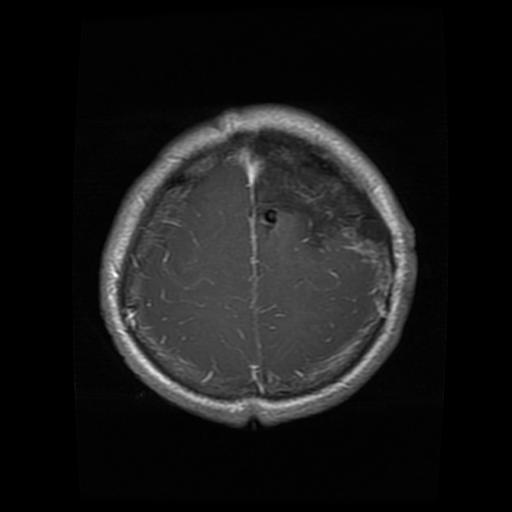Gliomia_tumour: (236, 135, 384, 246)
